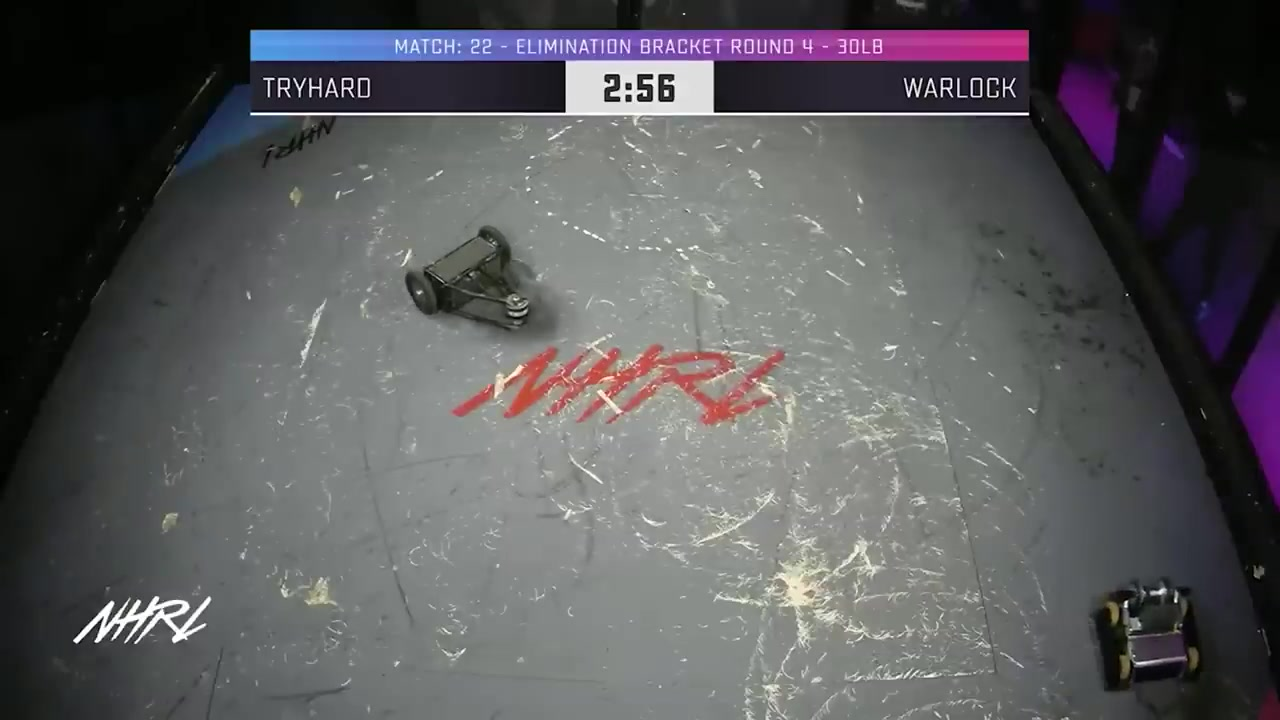combatbot: (408, 228, 539, 328), (1092, 578, 1200, 686)
